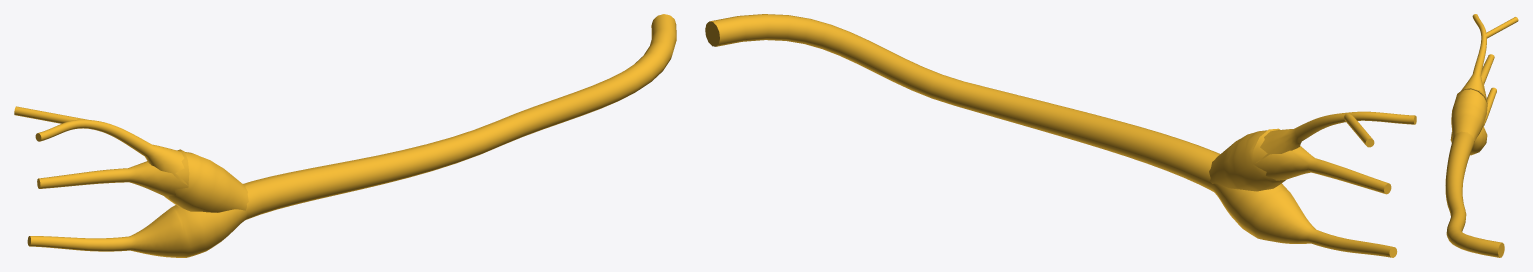
The model's file is nervoso-vestibular-nerve-r.glb.
3 views of the same model, side by side, from view 1: azimuth 30°, elevation 25°; view 2: azimuth 150°, elevation 25°; view 3: azimuth 270°, elevation 25° (orthographic). The views are drawn at different scales.
Parts seen in each view (by area): view 1: Vestibular nerve.r; view 2: Vestibular nerve.r; view 3: Vestibular nerve.r.
Boxes of the visible parts, bbox=[...] form: Vestibular nerve.r: bbox=[14, 14, 676, 257]; Vestibular nerve.r: bbox=[705, 14, 1416, 257]; Vestibular nerve.r: bbox=[1445, 14, 1518, 257].
Size of the model in its own units: 0.0212 by 0.00475 by 0.00328.
